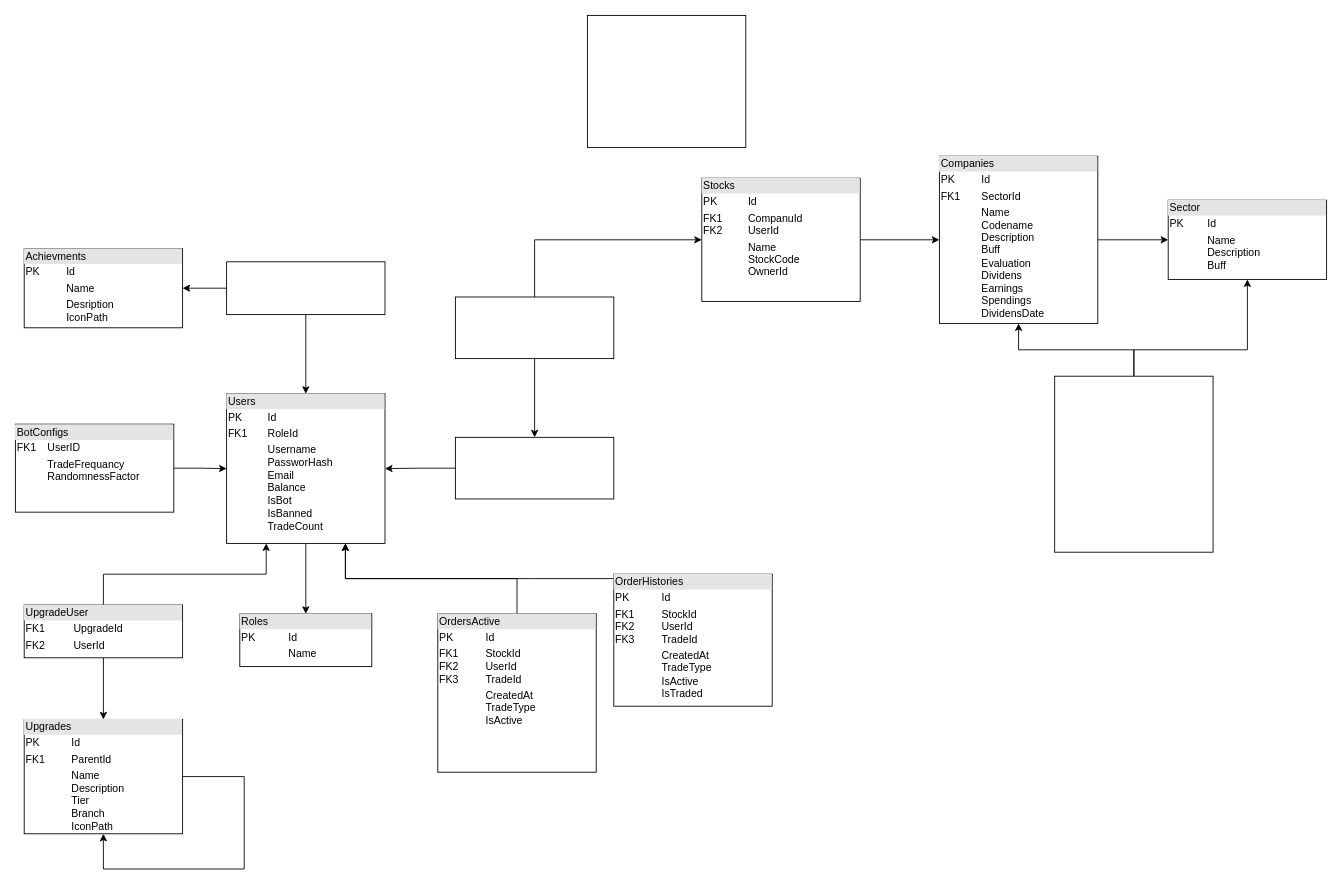
Some shapes in this 1342 by 891 pixel diagram are drawn without their labels. The shapes that lost their labels are listed below. From the top down, each one's box as (x1, y1, x2, y2) in pixels, then its label:
(587, 15, 746, 147): Trades PK Id FK1 FK2 FK3 StockId SellerId BuyerId Price Quantity IsTraded
(226, 261, 385, 315): AchievmentUser FK1 AchievmentId FK2 UserId
(455, 296, 614, 359): PortfolioStocks FK1 FK2 PortfolioId StockID Amount
(455, 436, 614, 499): Portfolios FK1 UserId CreatedAt LastUpdatedAt
(1054, 375, 1213, 552): Events PK Id FK1 FK2 CompanyId SectorId Headline Description Effect
